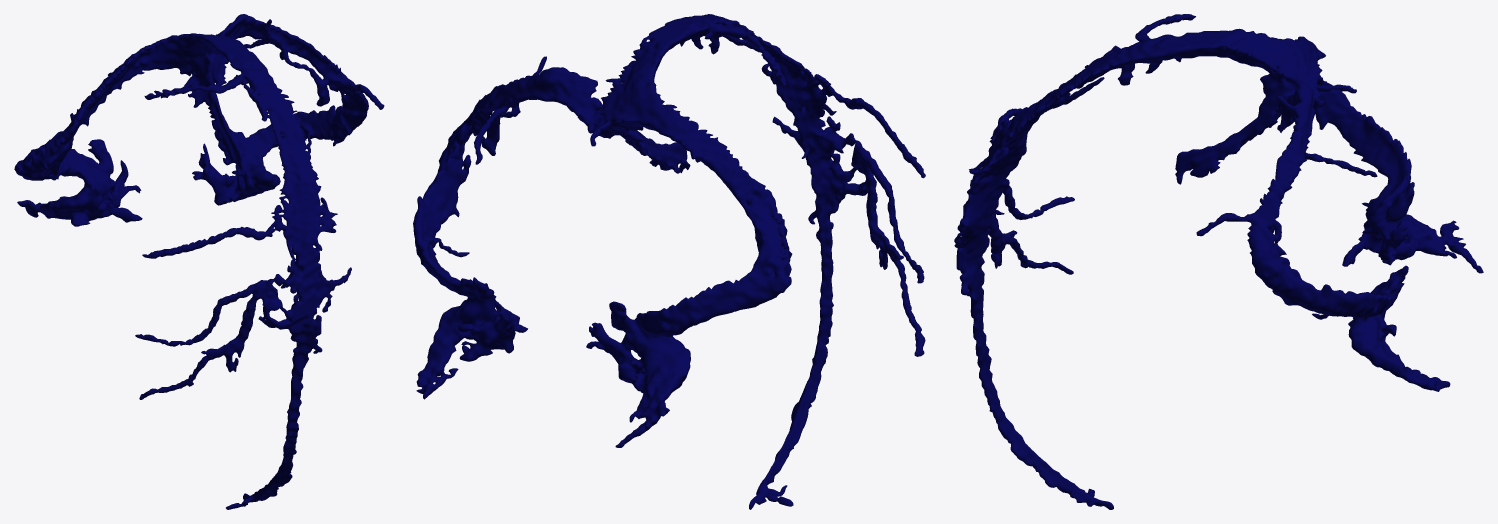
Rendered from Venous_sinus.obj.
The picture shows the model from 3 angles, left to right: view 1: azimuth 30°, elevation 25°; view 2: azimuth 150°, elevation 25°; view 3: azimuth 270°, elevation 25°; orthographic projection. The views are drawn at different scales.
Visible parts, largest first — view 1: grp1; view 2: grp1; view 3: grp1.
Boxes of the visible parts, x1,y1,x2,y2 form: grp1: (14, 14, 384, 509); grp1: (413, 14, 925, 509); grp1: (954, 14, 1483, 509).
Size of the model in its own units: 118 by 149 by 146.
